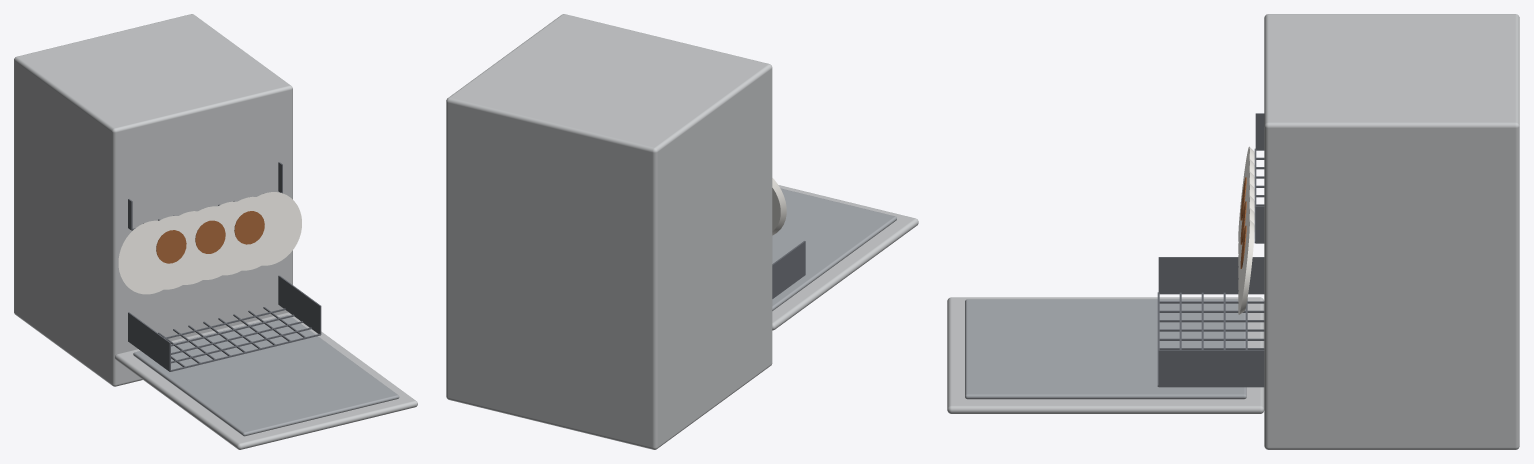
File: dishwasherOpen.glb
3 views of the same model, side by side, from view 1: azimuth 30°, elevation 25°; view 2: azimuth 150°, elevation 25°; view 3: azimuth 270°, elevation 25° (orthographic). The views are drawn at different scales.
Parts seen in each view (by area): view 1: tub, rackLow, door, doorPanel; view 2: tub, door, doorPanel, rackLow; view 3: tub, door, rackLow, doorPanel, rackTop.
Part boxes in pixels (left/top/right/bottom): tub: left=14, top=14, right=292, bottom=386; rackLow: left=118, top=192, right=321, bottom=371; door: left=133, top=315, right=399, bottom=436; doorPanel: left=115, top=312, right=417, bottom=449; tub: left=446, top=14, right=772, bottom=449; door: left=772, top=188, right=896, bottom=310; doorPanel: left=772, top=185, right=918, bottom=330; rackLow: left=772, top=178, right=805, bottom=298; tub: left=1264, top=14, right=1519, bottom=449; door: left=965, top=299, right=1246, bottom=399; rackLow: left=1157, top=146, right=1264, bottom=387; doorPanel: left=947, top=297, right=1264, bottom=413; rackTop: left=1254, top=113, right=1264, bottom=243.
Bounding box in the file's own units: 0.61 × 0.82 × 1.3.
